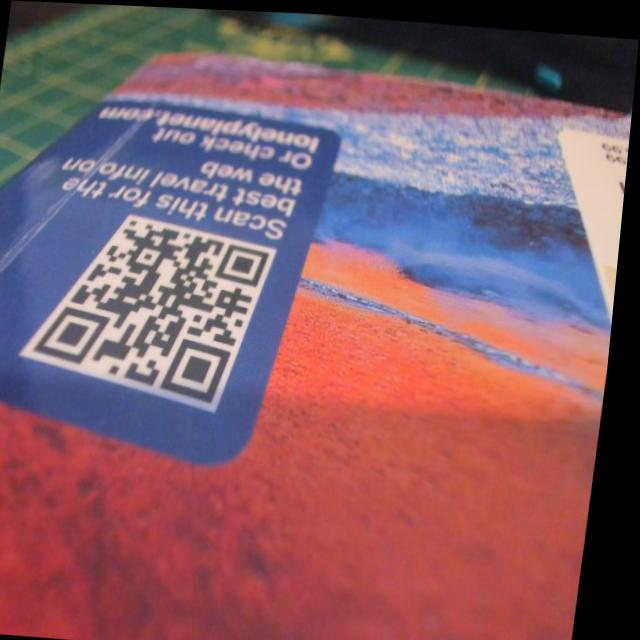QR_CODE: (28, 195, 287, 427)
